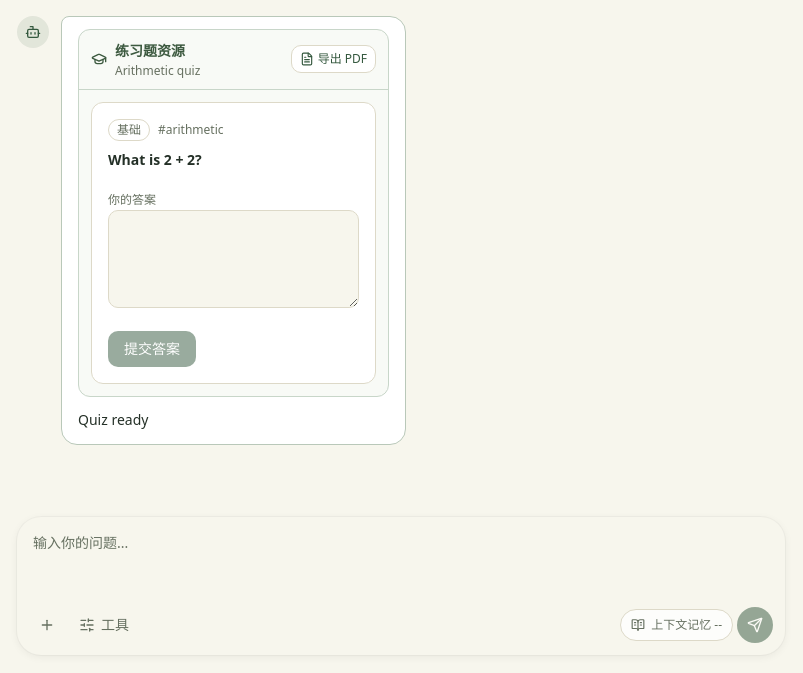
ChatArea assessment integration › renders a validated resource question and delegates one private submission
Type "4" into the text box labelled "你的答案".
click(234, 259); type("4")  # box [108,210,359,308]
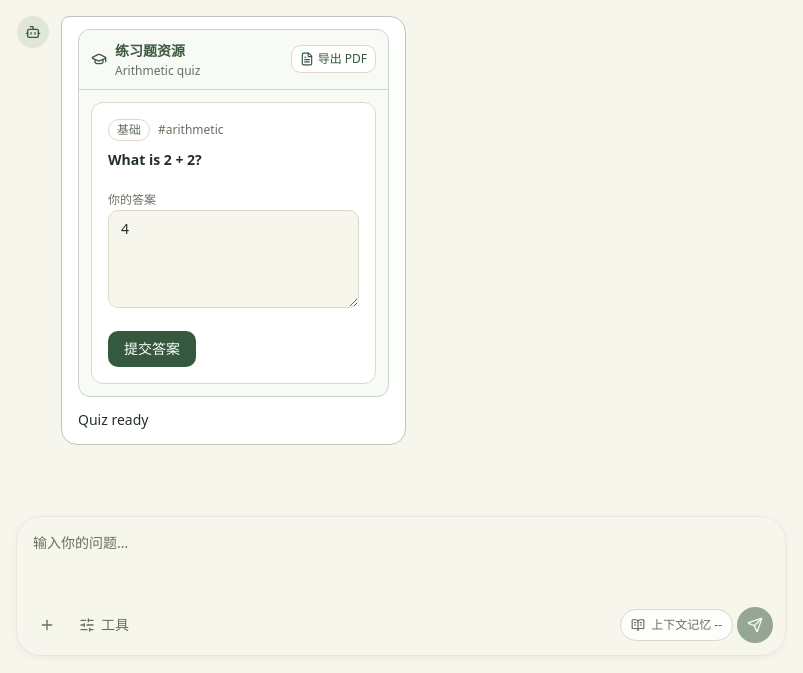
Click the button "提交答案".
click(152, 349)  # box [108,331,196,367]
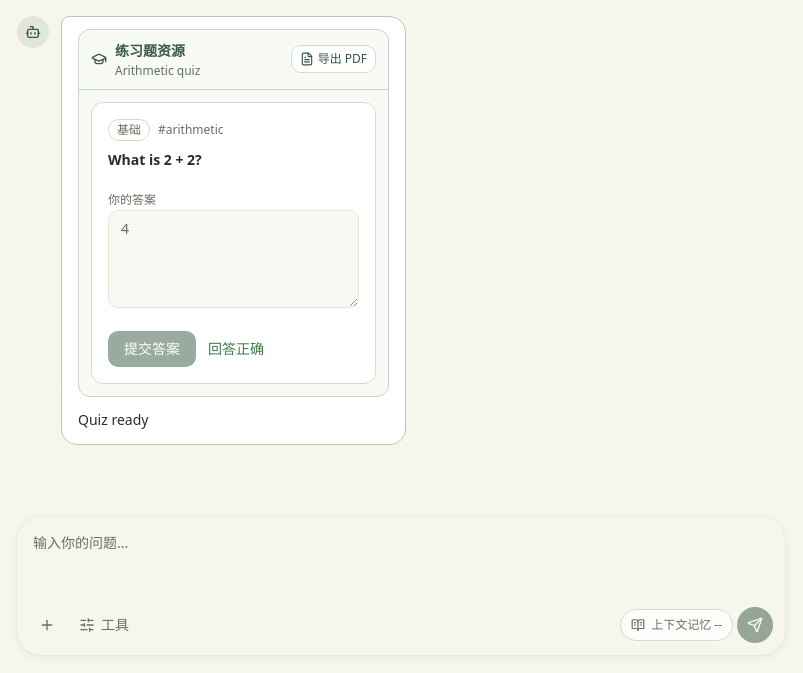
Expected: the text "回答正确" is shown, [208,339,264,359]
